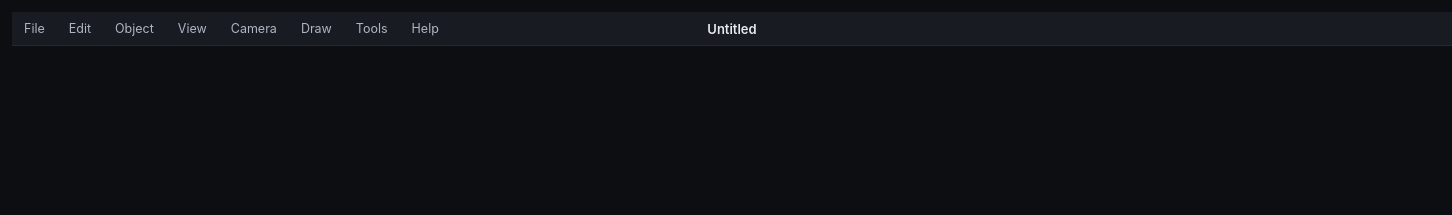
it: MenuBar › shows Undo disabled when canUndo=false
Click the button "Edit". click: point(80, 28)
box: [57,12,103,45]
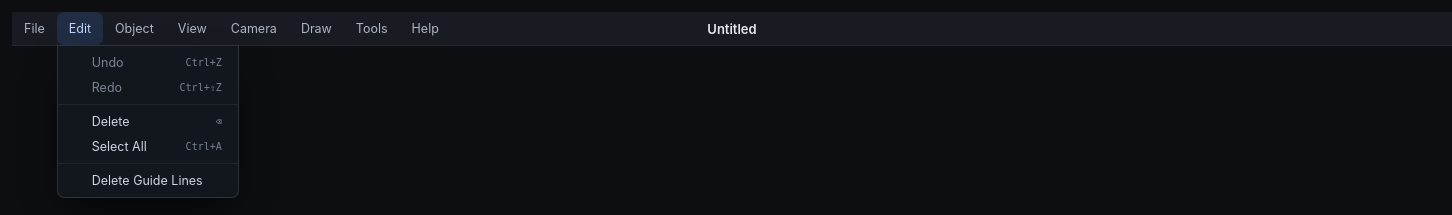
Result: the text "Undo" is shown at [92,55,124,70]
